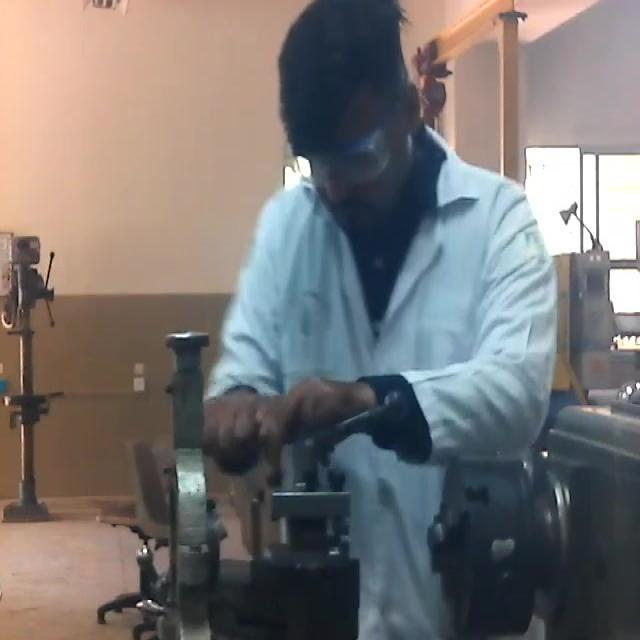googles: (290, 130, 395, 193)
labcoat: (209, 116, 560, 640)
